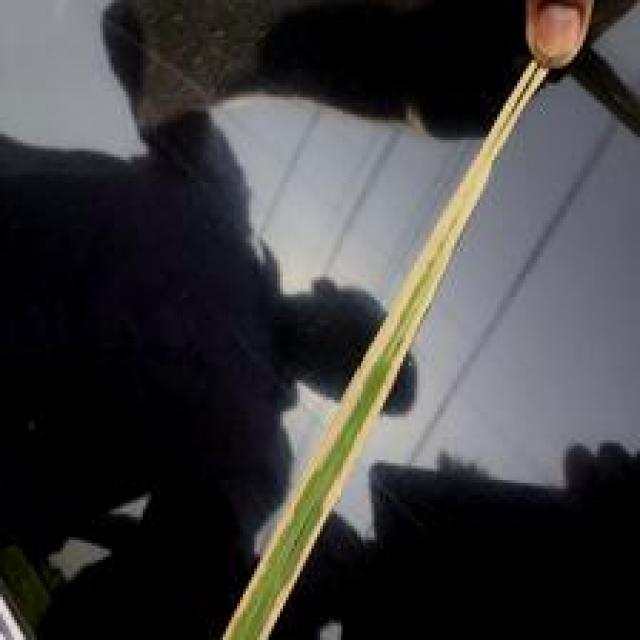Rice_Bacterial_Blight: (283, 120, 488, 529)
